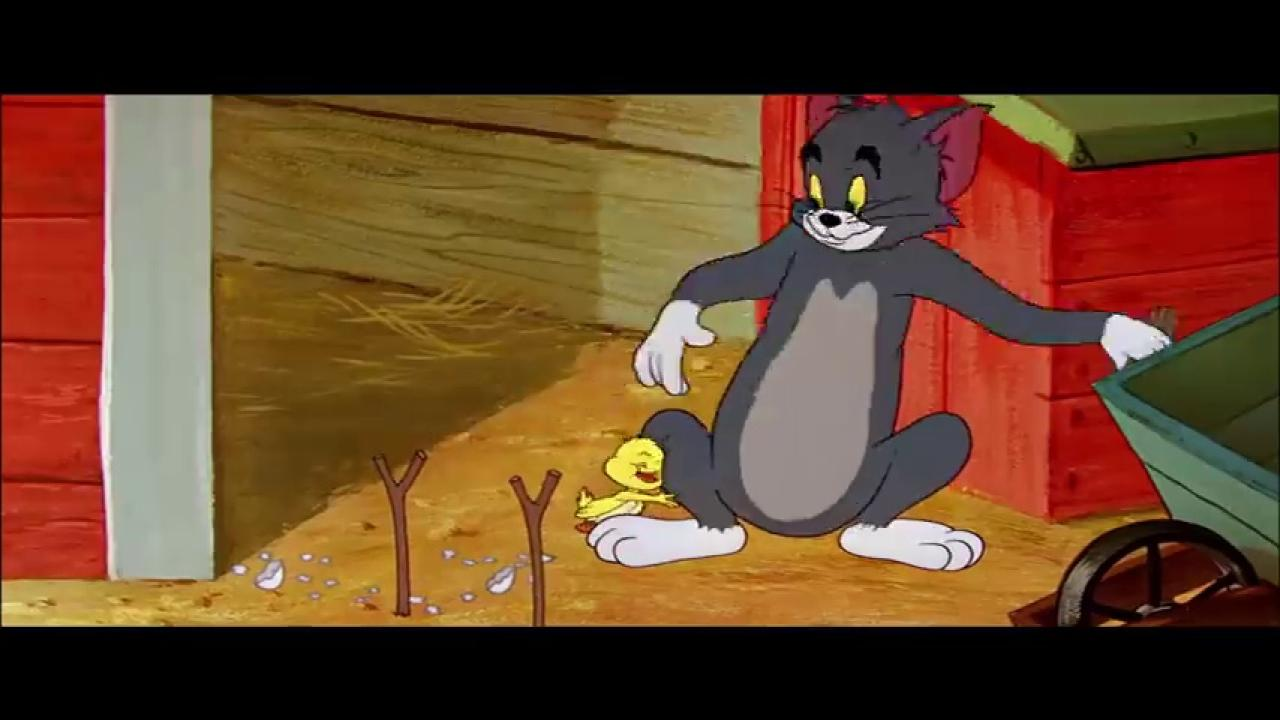Tom: (585, 94, 1179, 573)
